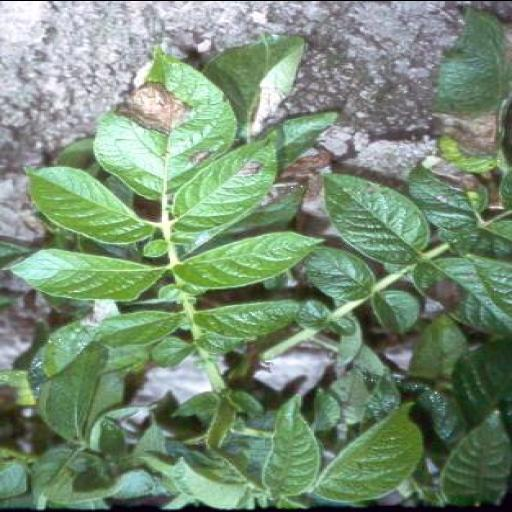disease_tomato: (95, 46, 247, 198), (419, 4, 512, 176)
